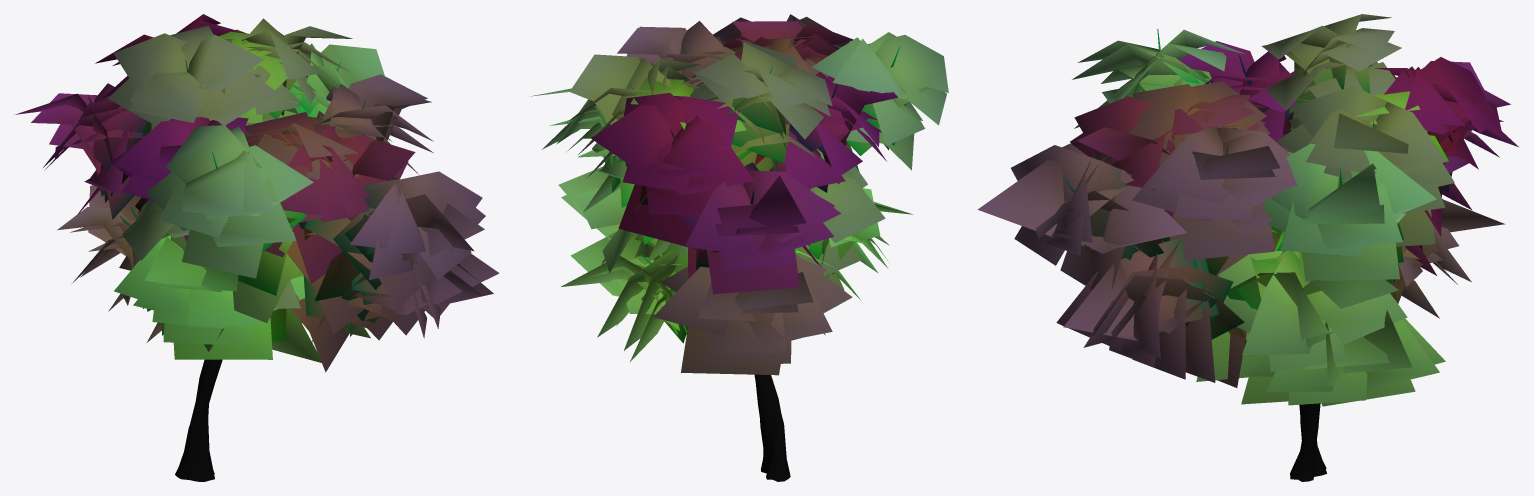
Rendered from Arbol4.fbx.
3 views of the same model, side by side, from view 1: azimuth 30°, elevation 25°; view 2: azimuth 150°, elevation 25°; view 3: azimuth 270°, elevation 25° (orthographic). The views are drawn at different scales.
Parts seen in each view (by area): view 1: Tree_1, Tree_0; view 2: Tree_1, Tree_0; view 3: Tree_1, Tree_0.
Part boxes in pixels (<box>): Tree_1: <box>14,14,499,372</box>; Tree_0: <box>88,39,365,481</box>; Tree_1: <box>529,14,948,375</box>; Tree_0: <box>629,43,899,481</box>; Tree_1: <box>977,14,1518,406</box>; Tree_0: <box>1063,29,1373,481</box>.
Bounding box in the file's own units: 334 × 419 × 446.
